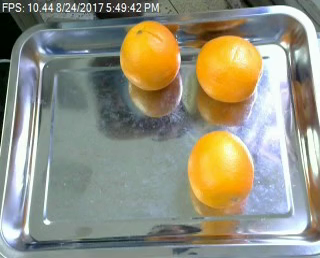Orange: (186, 130, 251, 209), (196, 35, 262, 104), (119, 20, 181, 90)
